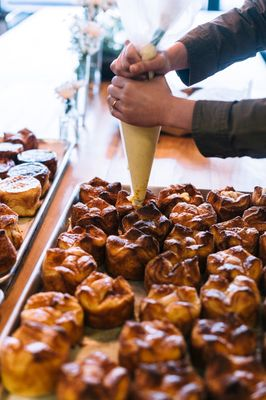salad: (1, 322, 72, 398), (55, 349, 131, 400), (74, 271, 135, 330), (118, 319, 187, 371), (21, 291, 85, 347), (41, 247, 98, 295)
